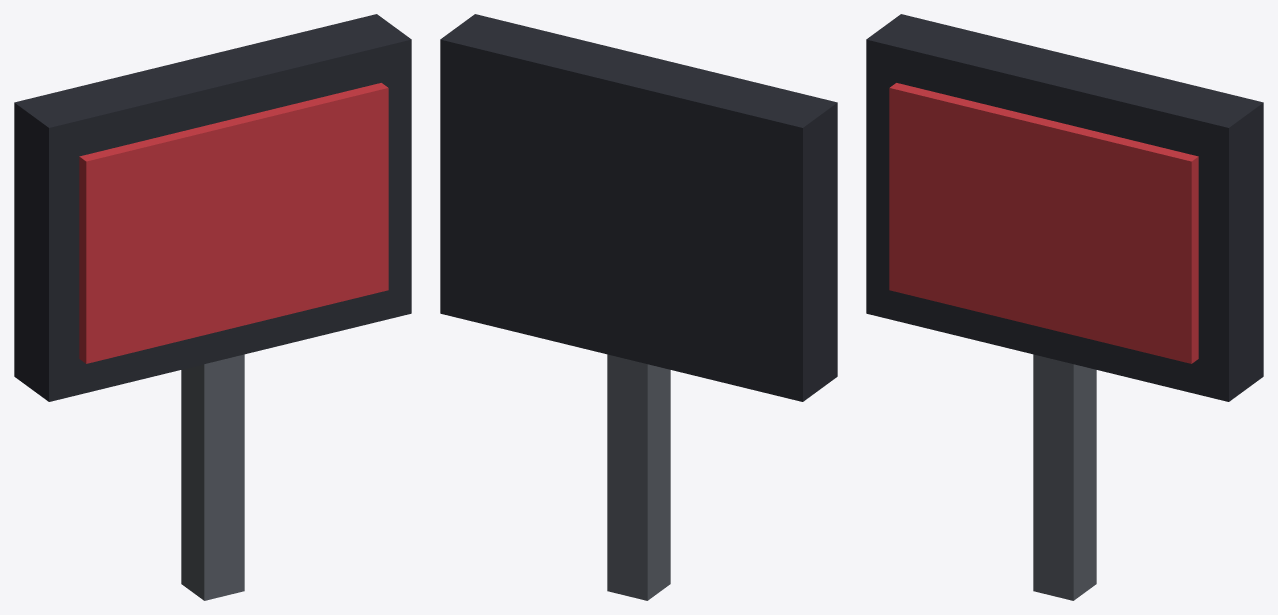
The model's file is terminal.glb.
3 views of the same model, side by side, from view 1: azimuth 30°, elevation 25°; view 2: azimuth 150°, elevation 25°; view 3: azimuth 330°, elevation 25° (orthographic).
Visible parts, largest first — view 1: part_1, part_0, part_2; view 2: part_0, part_2; view 3: part_1, part_0, part_2.
Boxes of the visible parts, <box> form: part_1: <box>79,83,388,363</box>; part_0: <box>14,14,411,401</box>; part_2: <box>181,354,244,600</box>; part_0: <box>440,14,837,401</box>; part_2: <box>607,354,670,600</box>; part_1: <box>889,83,1198,363</box>; part_0: <box>866,14,1263,401</box>; part_2: <box>1033,354,1096,600</box>.
Bounding box in the file's own units: 0.9 × 1.23 × 0.18.
